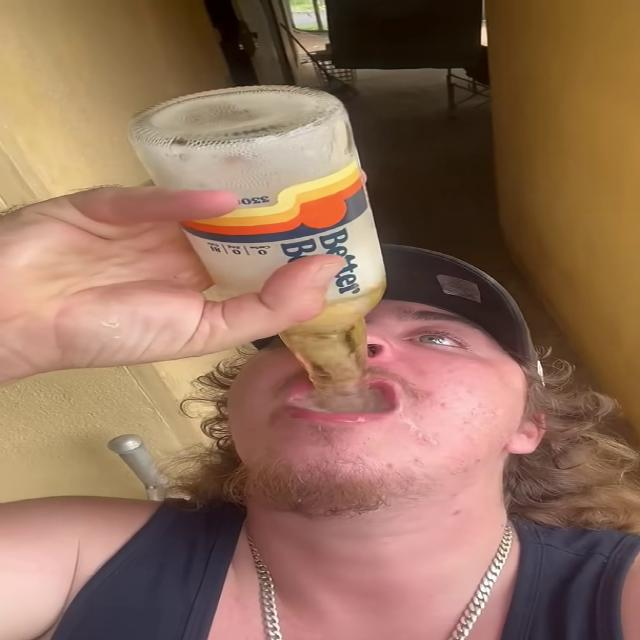Bottle: (126, 84, 387, 411)
Hand: (0, 168, 394, 377)
Mouth: (258, 364, 421, 430)
